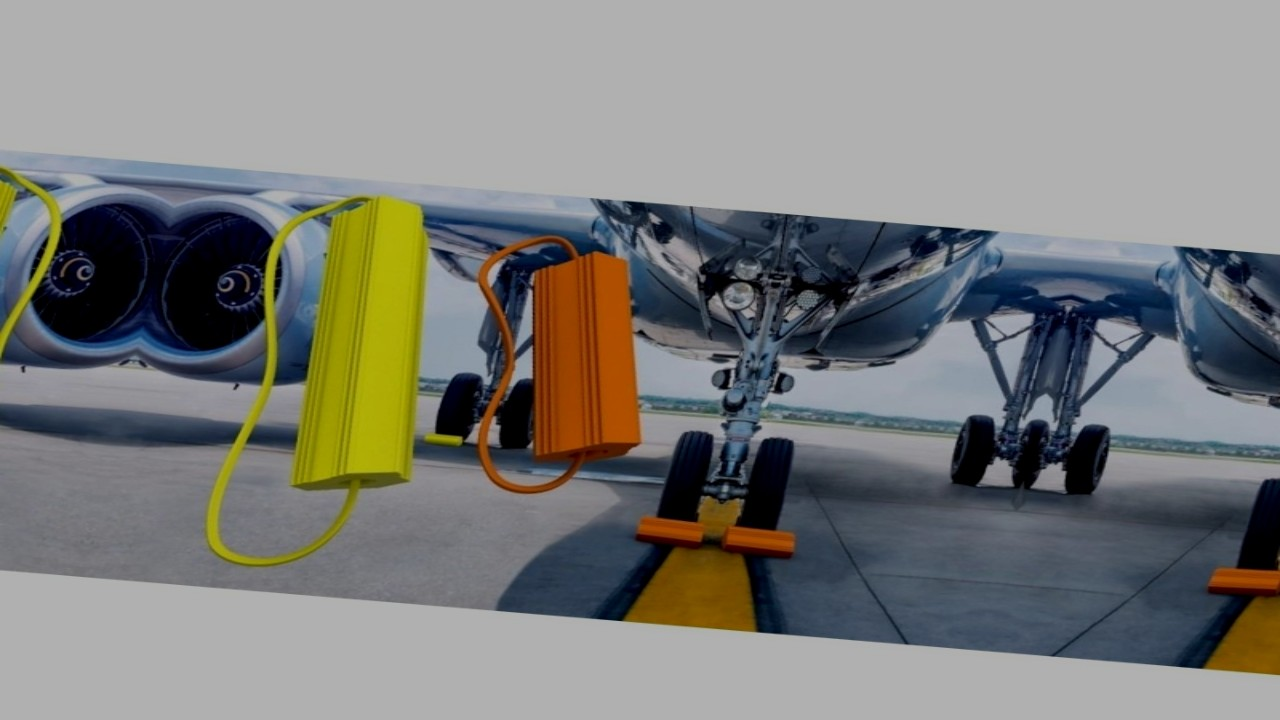chock: (258, 194, 481, 504), (483, 248, 693, 474), (715, 522, 803, 560), (1204, 562, 1280, 600), (631, 515, 710, 547), (421, 430, 467, 448)
wheel: (737, 436, 801, 531), (655, 429, 719, 522), (1059, 421, 1118, 496), (944, 412, 1003, 486), (1236, 477, 1280, 572), (433, 369, 490, 441), (494, 375, 550, 448), (1007, 418, 1040, 488), (1023, 419, 1056, 489)
